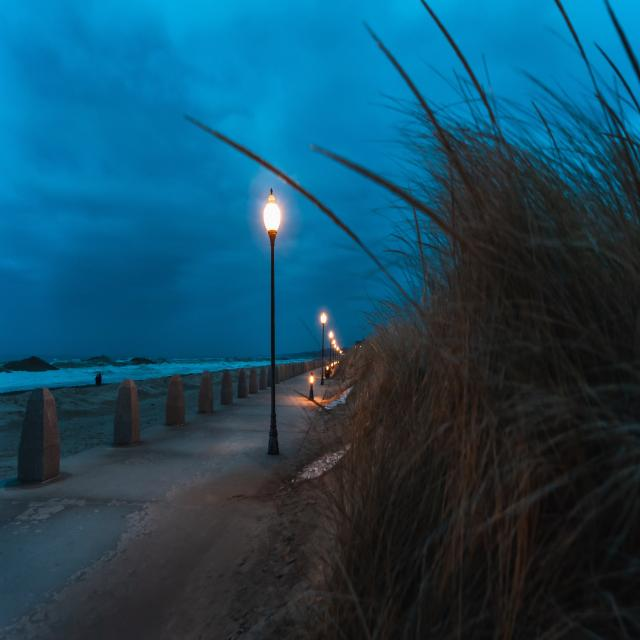Street Light: (263, 189, 282, 453), (321, 312, 326, 384), (329, 331, 333, 374), (333, 340, 335, 368), (334, 344, 336, 368), (336, 346, 338, 365)
